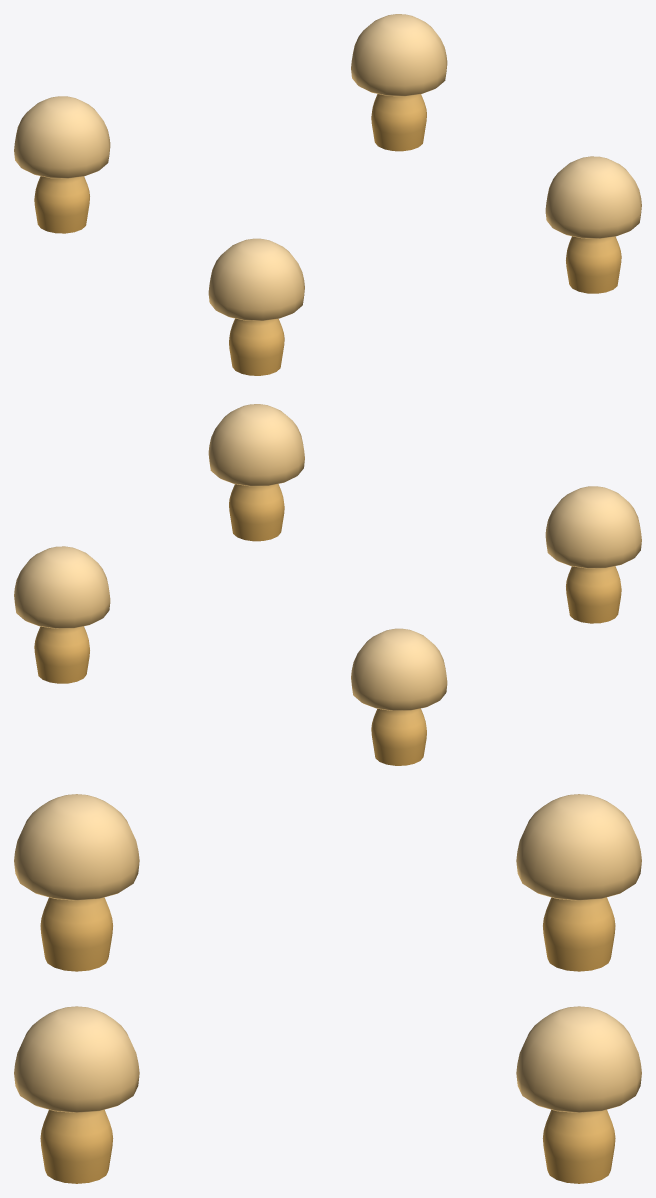
The model's file is Farm_Crop_Mashroom_02_Step_01.glb.
The picture shows the model from 3 angles, top to bottom: view 1: azimuth 30°, elevation 25°; view 2: azimuth 150°, elevation 25°; view 3: azimuth 270°, elevation 25°; orthographic projection. The views are drawn at different scales.
Visible parts, largest first — view 1: Farm_Crop_Mashroom_02_Step_01; view 2: Farm_Crop_Mashroom_02_Step_01; view 3: Farm_Crop_Mashroom_02_Step_01.
Part boxes in pixels (x1=…): Farm_Crop_Mashroom_02_Step_01: x1=14, y1=14, x2=641, y2=375; Farm_Crop_Mashroom_02_Step_01: x1=14, y1=404, x2=641, y2=765; Farm_Crop_Mashroom_02_Step_01: x1=14, y1=794, x2=641, y2=1183.
Size of the model in its own units: 1.25 by 0.3454 by 1.25.
Materials: 1 (1 with a texture image).
